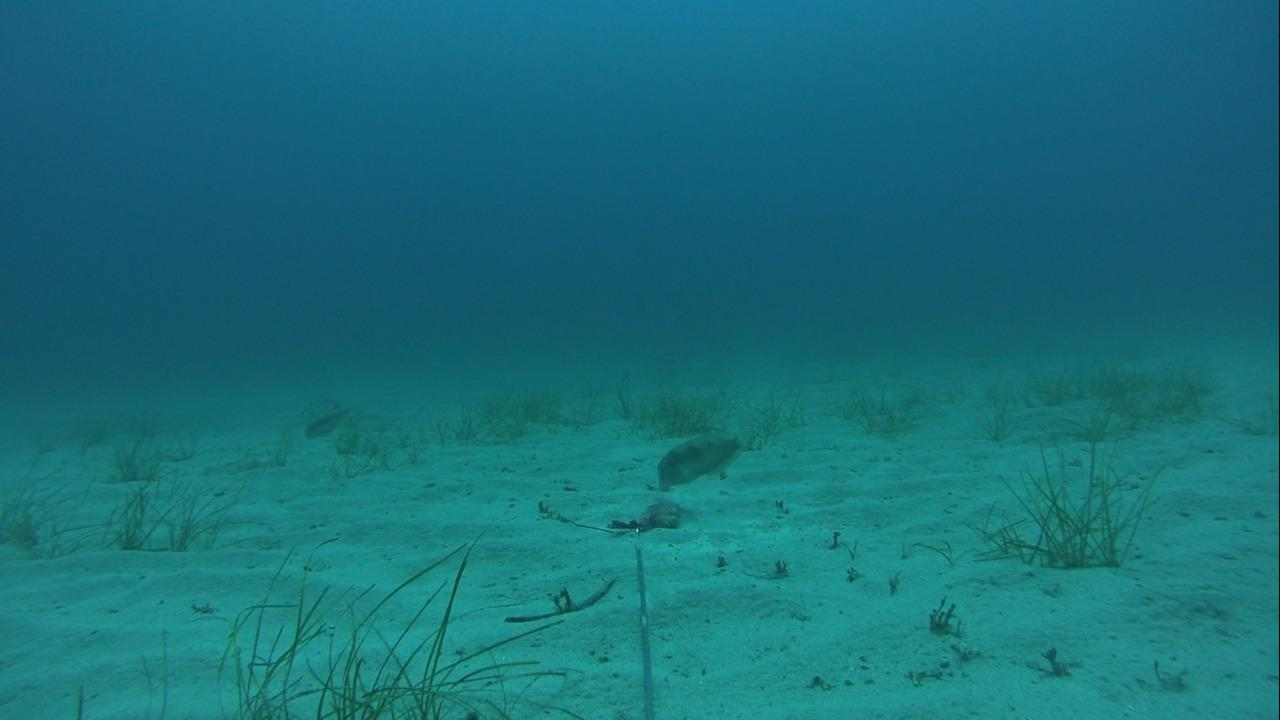raor: (651, 429, 747, 494), (299, 398, 356, 441)
